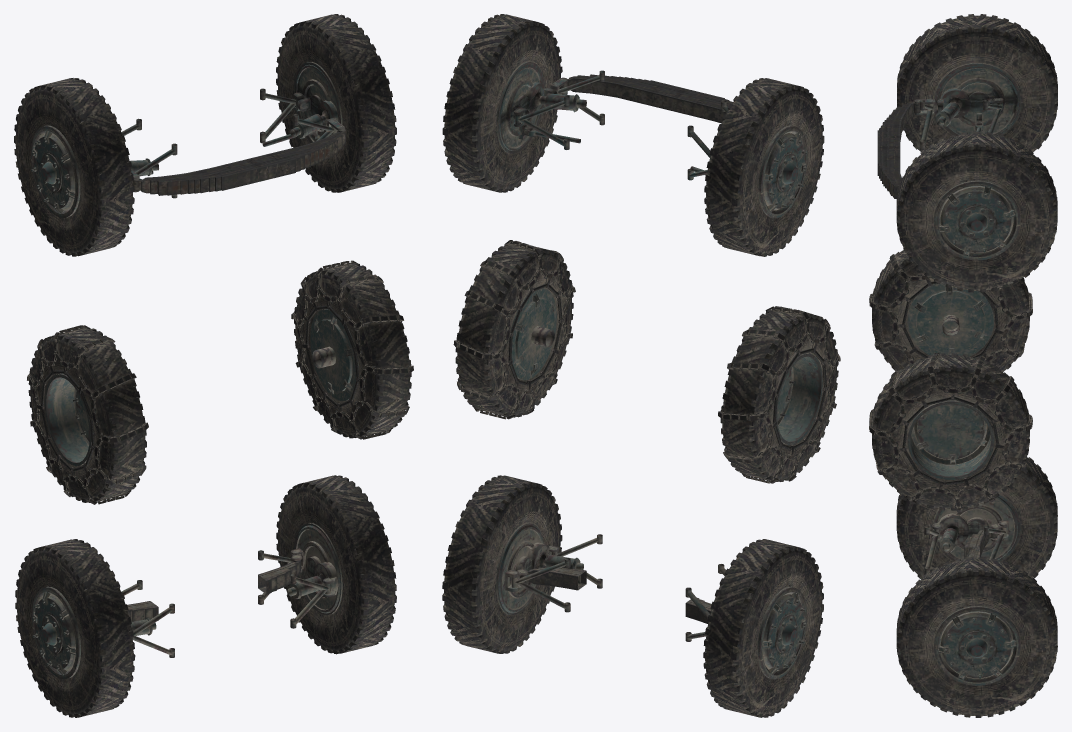
File: Chassis.glb
The picture shows the model from 3 angles, left to right: view 1: azimuth 30°, elevation 25°; view 2: azimuth 150°, elevation 25°; view 3: azimuth 270°, elevation 25°; orthographic projection. The views are drawn at different scales.
Visible parts, largest first — view 1: set_0_group_1, set_1_group_1, set_0_group_0, set_1_group_0; view 2: set_0_group_1, set_1_group_1, set_0_group_0, set_1_group_0; view 3: set_1_group_1, set_0_group_1, set_0_group_0, set_1_group_0.
Part boxes in pixels (x1,y1,x2,y2): set_0_group_1: (14, 78, 148, 717); set_1_group_1: (276, 14, 413, 654); set_0_group_0: (30, 118, 345, 679); set_1_group_0: (258, 62, 358, 628); set_0_group_1: (703, 78, 840, 717); set_1_group_1: (442, 14, 575, 653); set_0_group_0: (560, 74, 822, 679); set_1_group_0: (496, 61, 604, 615); set_1_group_1: (869, 131, 1057, 717); set_0_group_1: (869, 14, 1057, 579); set_0_group_0: (877, 63, 1020, 574); set_1_group_0: (907, 180, 1020, 685).
Bounding box in the file's own units: 1.94 × 3.56 × 1.07.
Materials: 4 (4 with a texture image).
